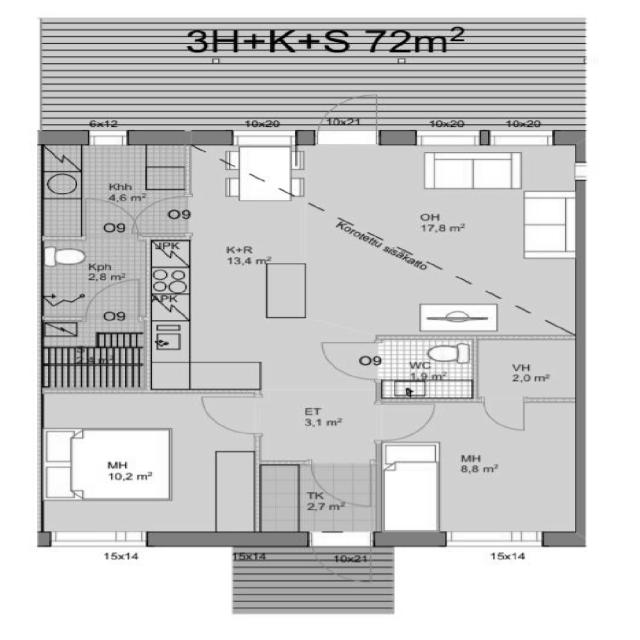door: (302, 534, 383, 595), (310, 91, 388, 143), (189, 390, 267, 441), (312, 336, 394, 384), (310, 457, 376, 507), (83, 273, 150, 322), (136, 190, 196, 241), (382, 394, 438, 445), (473, 397, 536, 440), (80, 197, 134, 240)
window: (409, 126, 552, 148), (37, 525, 157, 550), (444, 530, 554, 548), (227, 127, 290, 145), (87, 130, 129, 148)
zone: (192, 140, 584, 330), (27, 388, 258, 538), (382, 398, 576, 540), (42, 243, 149, 323), (373, 339, 473, 400)
